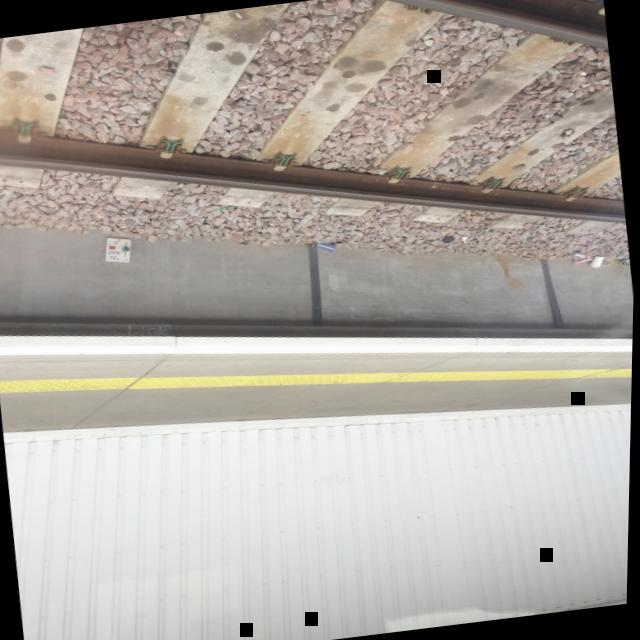Disposable plastic cup: (315, 241, 336, 251)
Drink can: (569, 250, 585, 257)
Paper cup: (589, 253, 604, 267)
Plastic lid: (442, 235, 455, 242)
Plastic straw: (601, 263, 610, 264)
Unlabeled litter: (574, 253, 592, 262)
